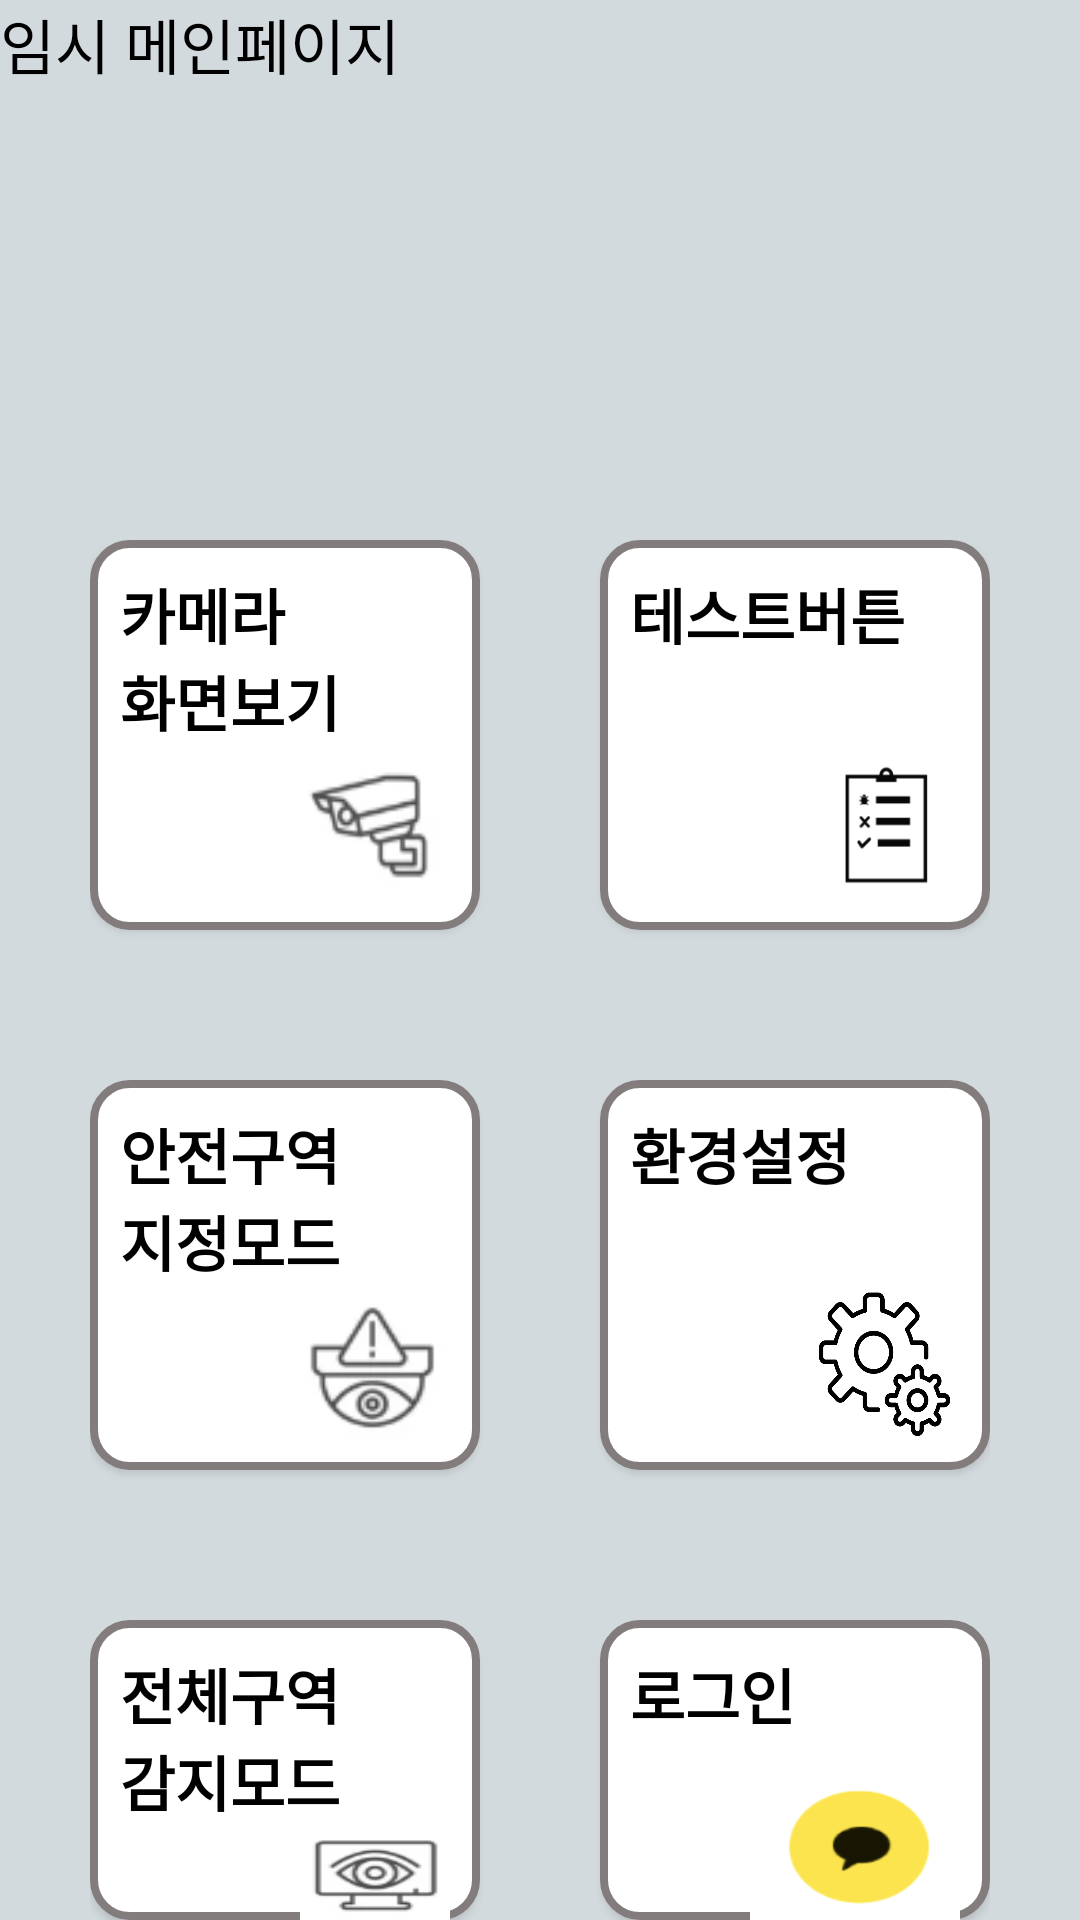

Screen size 1080 x 1920. Icon name, then its center in pixels as (x=x, y=y):
setting: (x=884, y=1364)
